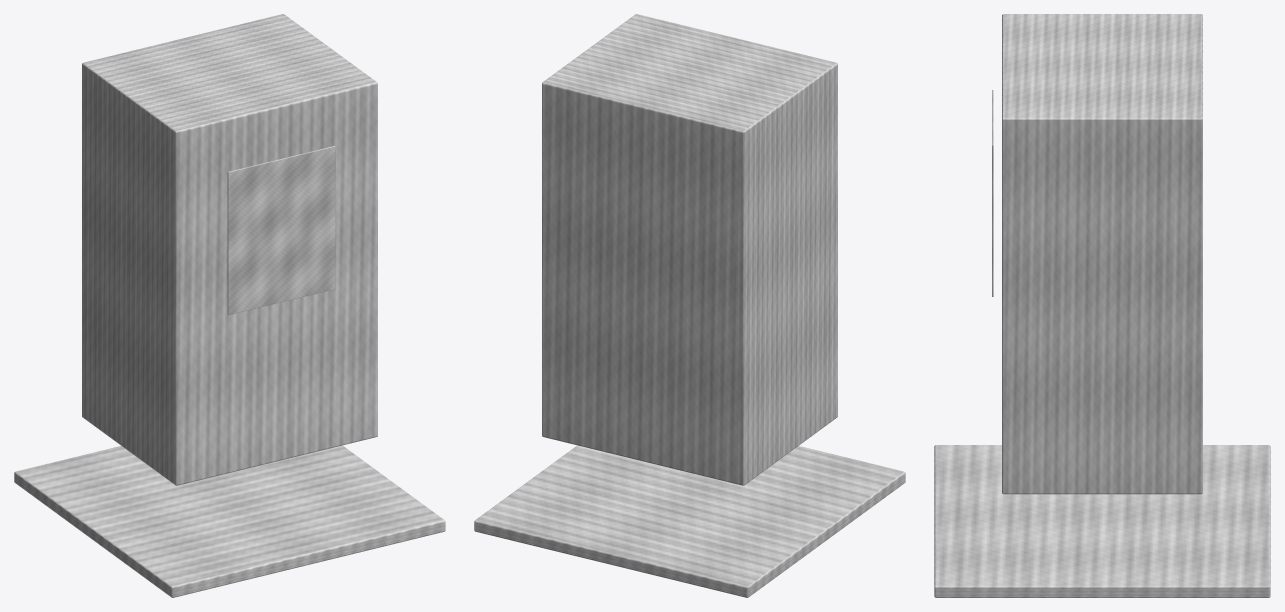
File: lookout-tower_variant_c.glb
The picture shows the model from 3 angles, left to right: view 1: azimuth 30°, elevation 25°; view 2: azimuth 150°, elevation 25°; view 3: azimuth 270°, elevation 25°; orthographic projection. The views are drawn at different scales.
Visible parts, largest first — view 1: Fixture housing.002, Foundation.002, Control face.003; view 2: Fixture housing.002, Foundation.002; view 3: Fixture housing.002, Foundation.002.
Part boxes in pixels (box(x1,y1,x2,y2)): Fixture housing.002: box(82, 14, 377, 485); Foundation.002: box(14, 445, 445, 597); Control face.003: box(227, 146, 335, 314); Fixture housing.002: box(542, 14, 837, 485); Foundation.002: box(474, 445, 905, 597); Fixture housing.002: box(1002, 14, 1202, 494); Foundation.002: box(934, 445, 1270, 597).
Size of what is drawn, in the model's own units: 11.04 by 16.72 by 11.04.
Materials: 4 (4 with a texture image).
